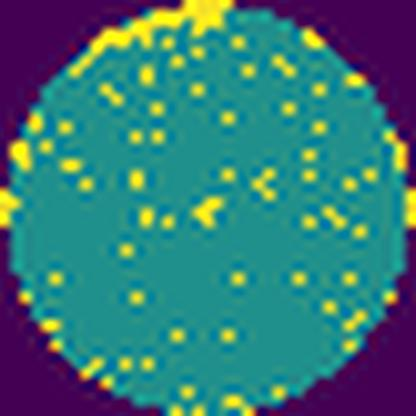Edge-Loc: (74, 0, 236, 79)
